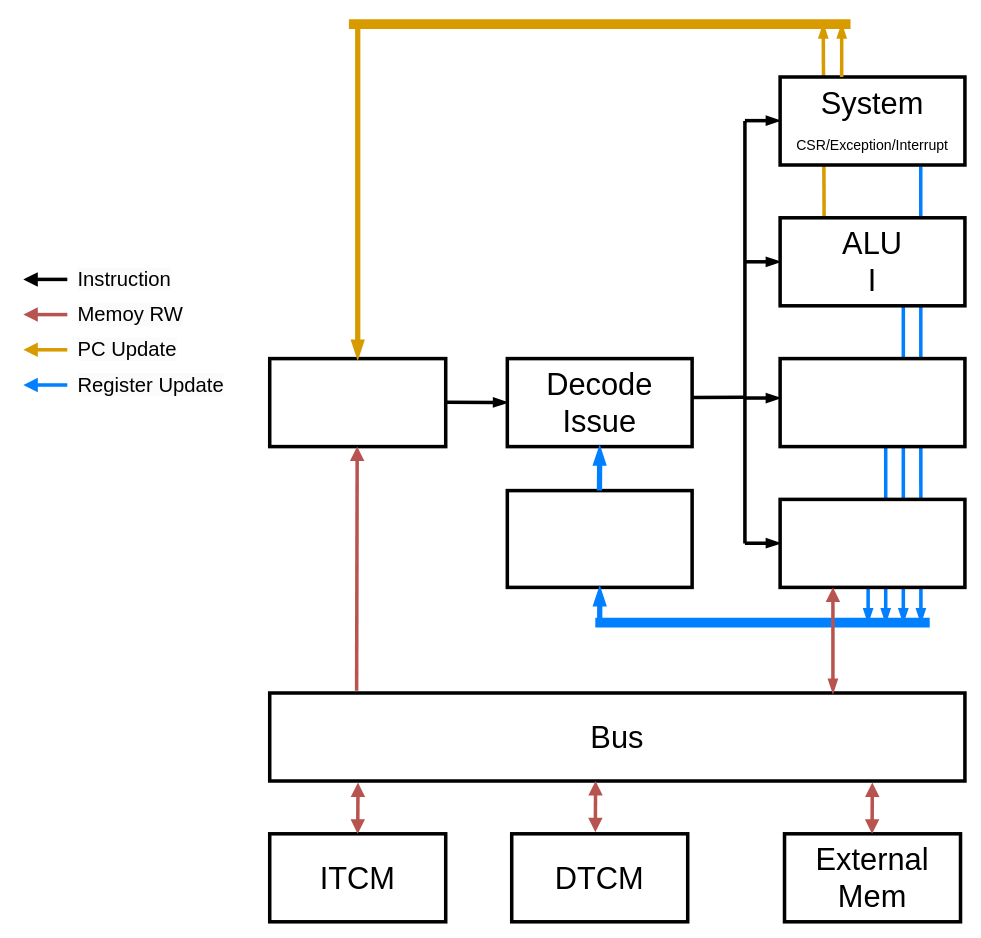
The diagram is 981 pixels wide and 938 high, and some of its shapes have lost their labels. Here are the shapes that lost their labels. From the top down, the centre of each, then its label:
pixel 357 402: Fetch
pixel 872 402: ALU M
pixel 599 538: Reg File
pixel 872 543: LSU
